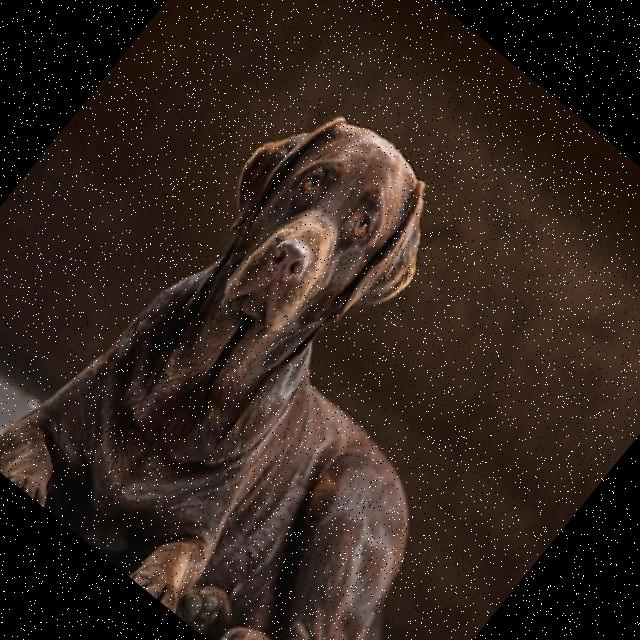Dog: (0, 71, 640, 640)
